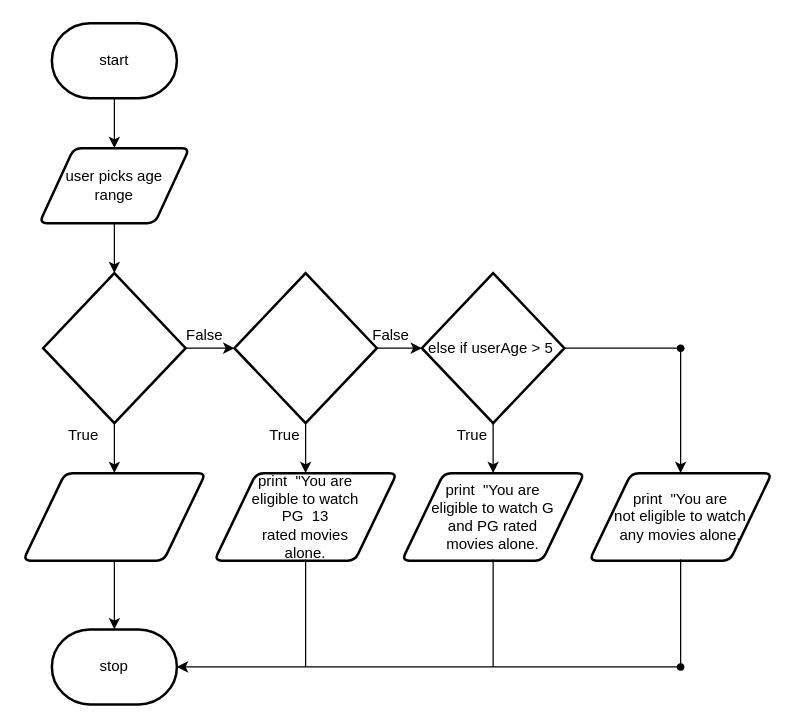
Image size: 794x726. Some labels were removed from this diagram. The shapes that lost their labels are listed below. From the top down, each one's centre as x and y in pixels, then its label:
[113,347]: if userAge > 17
[305,347]: elseif userAge > 13
[113,516]: print "You are eligible to watch R rated movies alone.
